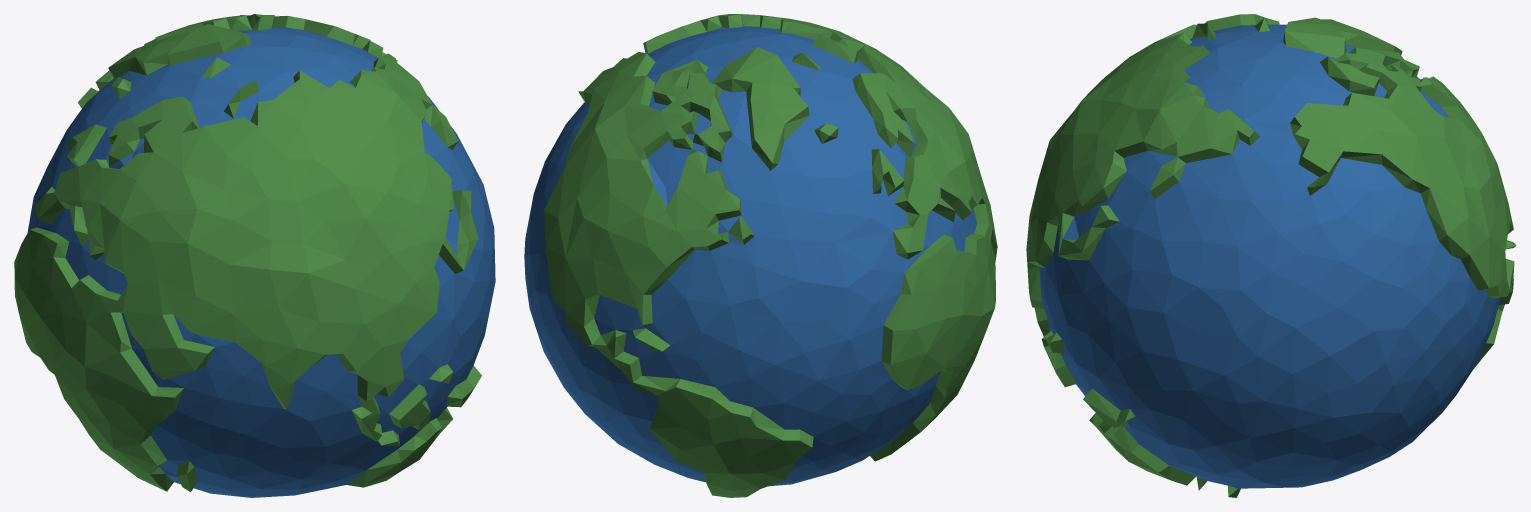
Rendered from earth.glb.
3 renders of one model, left to right at view 1: azimuth 30°, elevation 25°; view 2: azimuth 150°, elevation 25°; view 3: azimuth 270°, elevation 25°, orthographic. The views are drawn at different scales.
Size of the model in its own units: 33.74 by 34.08 by 34.44.
1 material, 1 textured.
